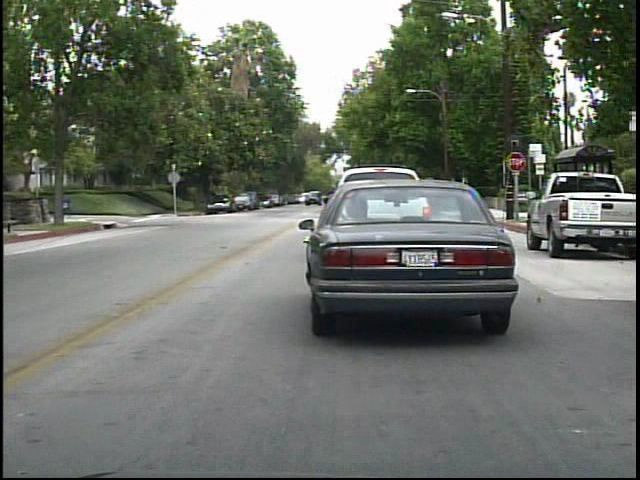person: (243, 188, 258, 214)
